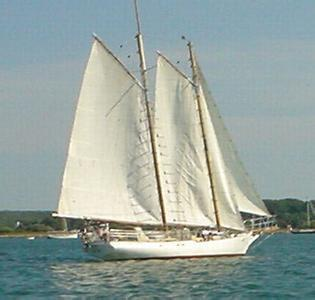fanchuan: (51, 3, 274, 262)
